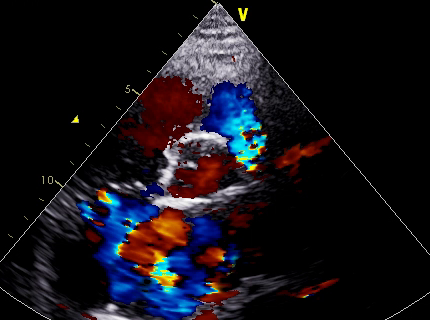TR: (96, 177, 180, 275)
